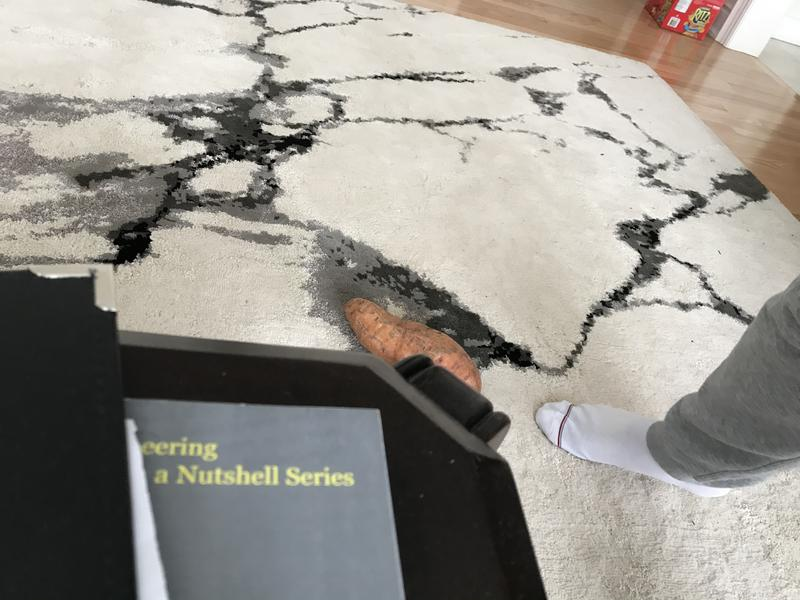sweet_potato: (339, 285, 492, 412)
